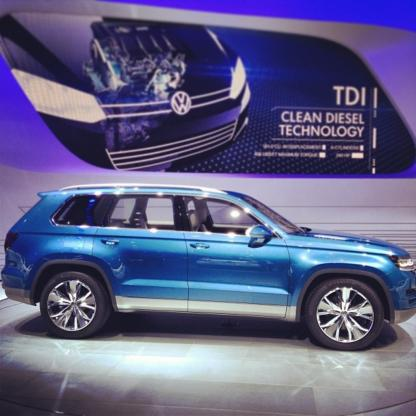Car: (2, 181, 416, 357)
